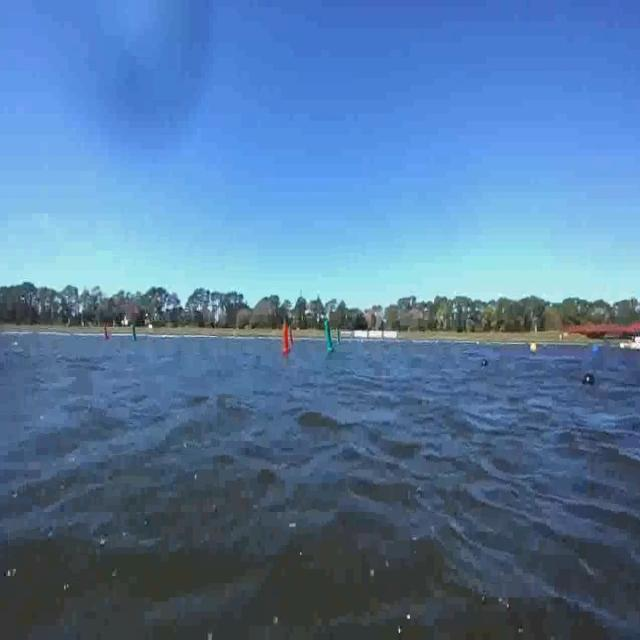black-buoy: (584, 372, 596, 387), (482, 359, 488, 366)
blue-buoy: (588, 339, 606, 369)
green-column-buoy: (327, 321, 337, 354), (132, 325, 139, 344), (338, 330, 344, 345)
red-column-buoy: (282, 324, 292, 353), (101, 323, 109, 344)
yellow-buoy: (529, 341, 538, 356)
